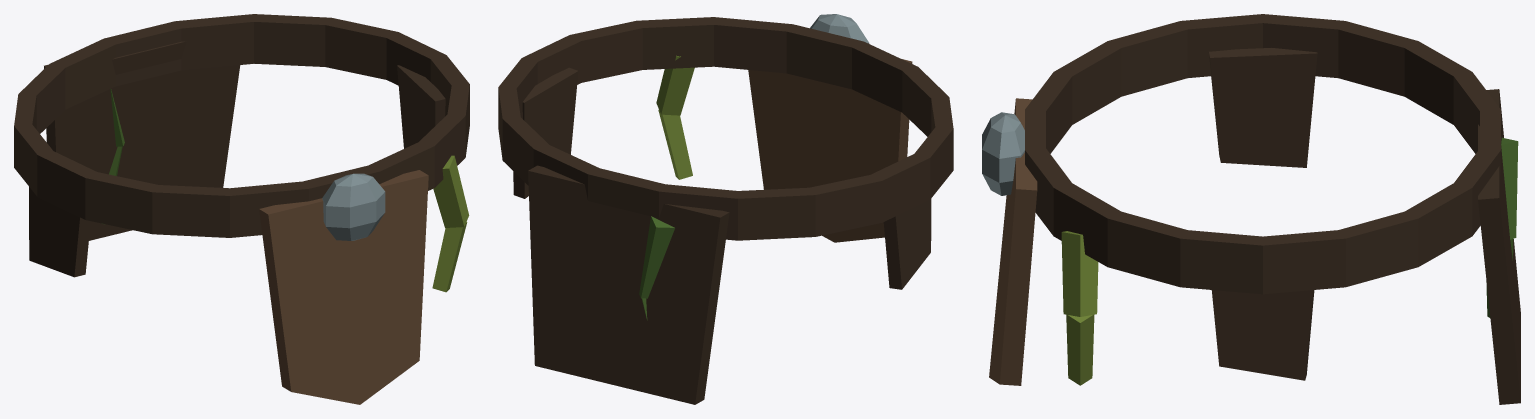
File: troll_chief_loincloth.glb
3 renders of one model, left to right at view 1: azimuth 30°, elevation 25°; view 2: azimuth 150°, elevation 25°; view 3: azimuth 270°, elevation 25°, orthographic. The views are drawn at different scales.
Visible parts, largest first — view 1: troll_chief_loincloth; view 2: troll_chief_loincloth; view 3: troll_chief_loincloth.
Part boxes in pixels (x1,y1,x2,y2): troll_chief_loincloth: (14, 14, 469, 404); troll_chief_loincloth: (498, 14, 953, 404); troll_chief_loincloth: (982, 14, 1520, 404).
Bounding box in the file's own units: 1.02 × 0.5414 × 1.
